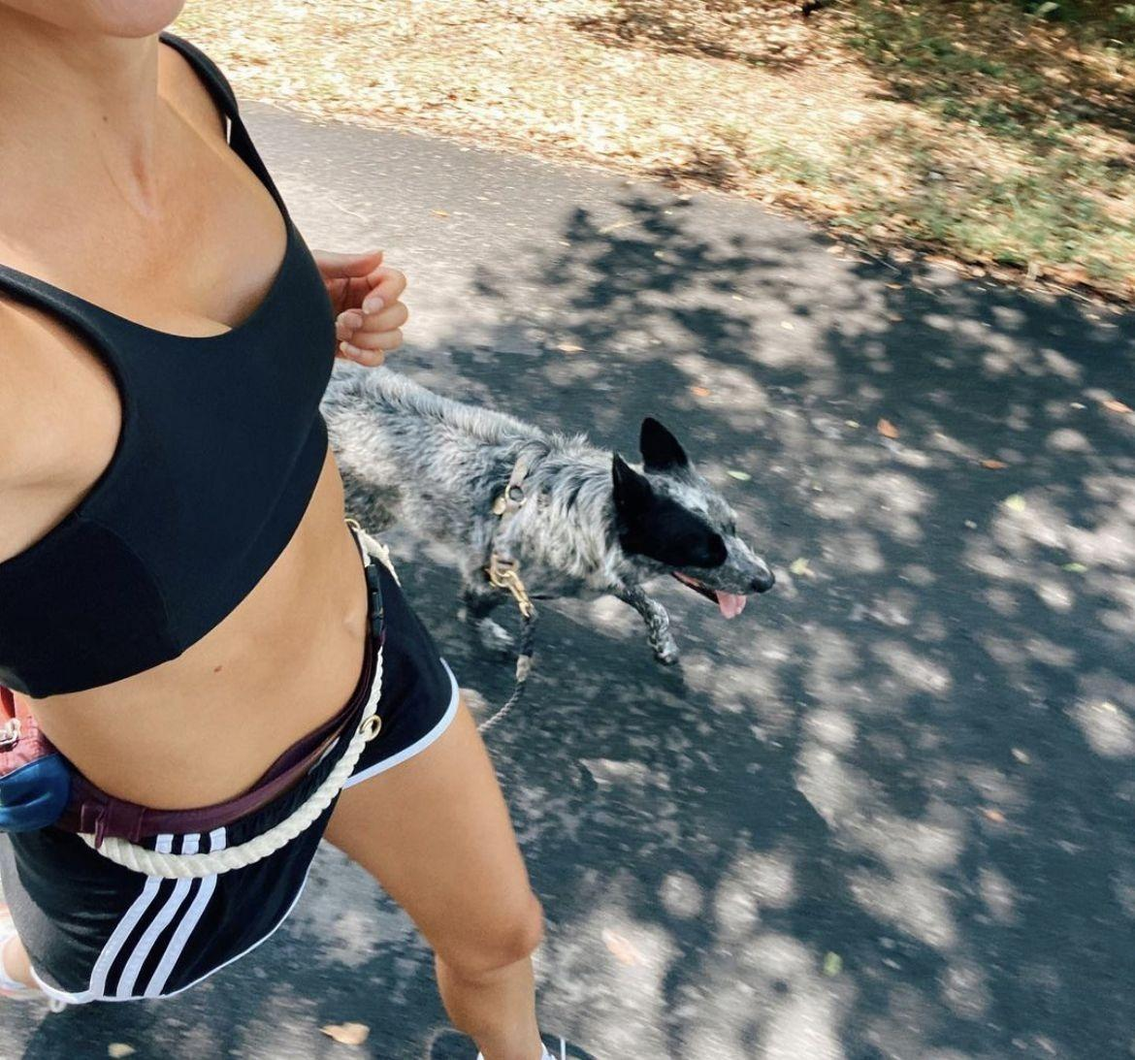adult_dog: (318, 357, 778, 665)
non-dog: (0, 0, 591, 1060)
